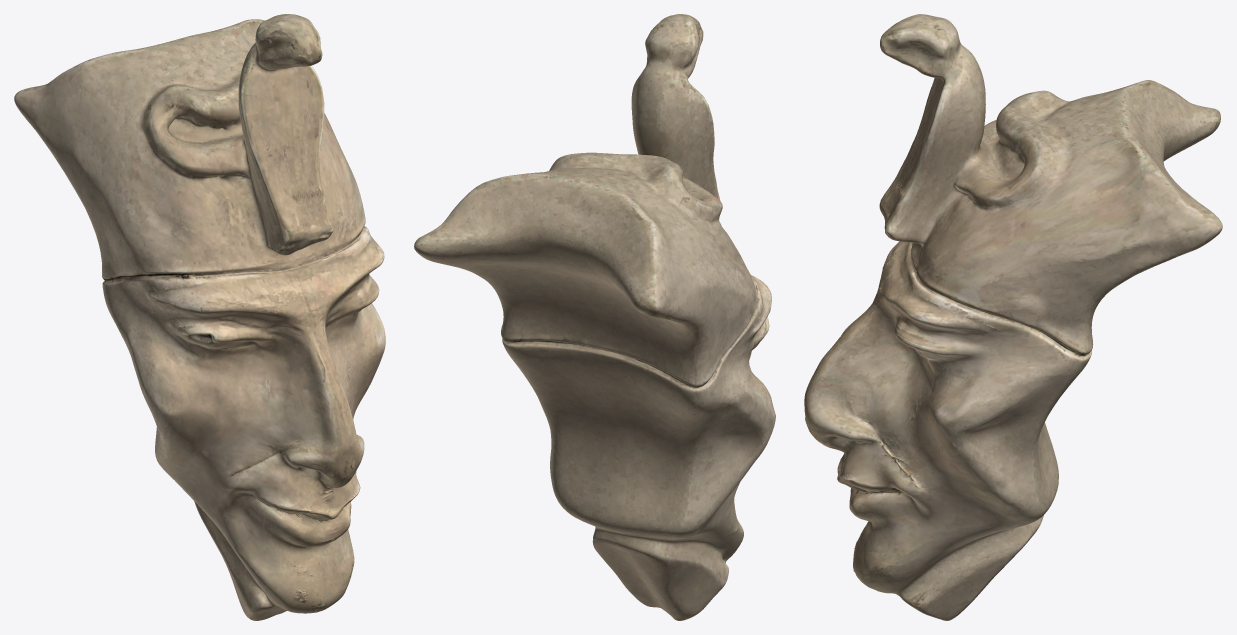
The picture shows the model from 3 angles, left to right: view 1: azimuth 30°, elevation 25°; view 2: azimuth 150°, elevation 25°; view 3: azimuth 270°, elevation 25°; orthographic projection. The views are drawn at different scales.
Parts seen in each view (by area): view 1: tripo_node_2304b368-8711-441f-a9c9-f34f1cfe33dd; view 2: tripo_node_2304b368-8711-441f-a9c9-f34f1cfe33dd; view 3: tripo_node_2304b368-8711-441f-a9c9-f34f1cfe33dd.
Boxes of the visible parts, x1,y1,x2,y2 form: tripo_node_2304b368-8711-441f-a9c9-f34f1cfe33dd: (14, 14, 385, 620); tripo_node_2304b368-8711-441f-a9c9-f34f1cfe33dd: (414, 14, 775, 620); tripo_node_2304b368-8711-441f-a9c9-f34f1cfe33dd: (804, 14, 1222, 620).
Bounding box in the file's own units: 0.4302 × 0.9793 × 0.6202.
1 material, 1 textured.
